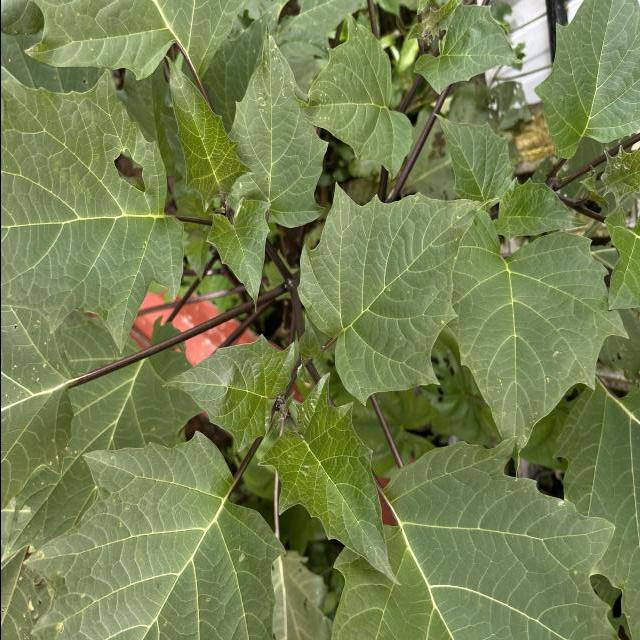Datura metal linn: (442, 208, 632, 487), (292, 178, 502, 410), (253, 368, 405, 588), (290, 9, 414, 182), (160, 331, 300, 456), (162, 51, 255, 214), (202, 195, 274, 318), (430, 110, 517, 203), (492, 174, 592, 254)
